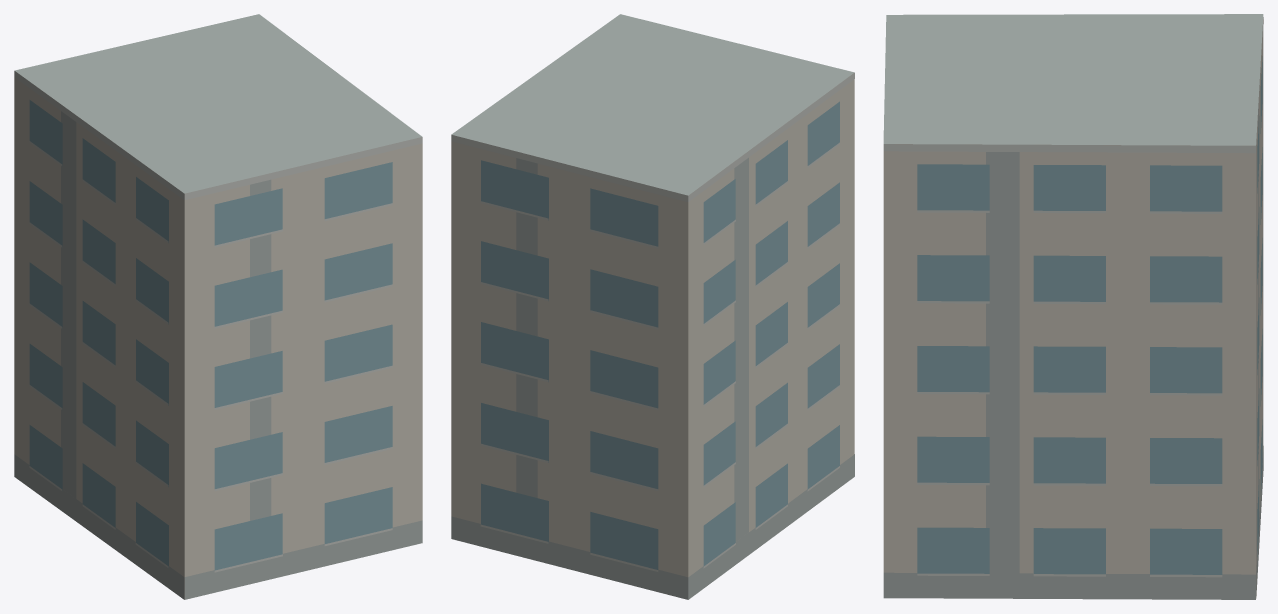
The model's file is survey-upis-32808533.glb.
The picture shows the model from 3 angles, left to right: view 1: azimuth 30°, elevation 25°; view 2: azimuth 150°, elevation 25°; view 3: azimuth 270°, elevation 25°; orthographic projection. The views are drawn at different scales.
Parts seen in each view (by area): view 1: survey-upis-32808533.tmp; view 2: survey-upis-32808533.tmp; view 3: survey-upis-32808533.tmp.
Part boxes in pixels (x1,y1,x2,y2): survey-upis-32808533.tmp: (14,14,422,599); survey-upis-32808533.tmp: (451,14,854,599); survey-upis-32808533.tmp: (883,14,1263,599).
Bounding box in the file's own units: 9.28 × 14.9 × 11.31.
